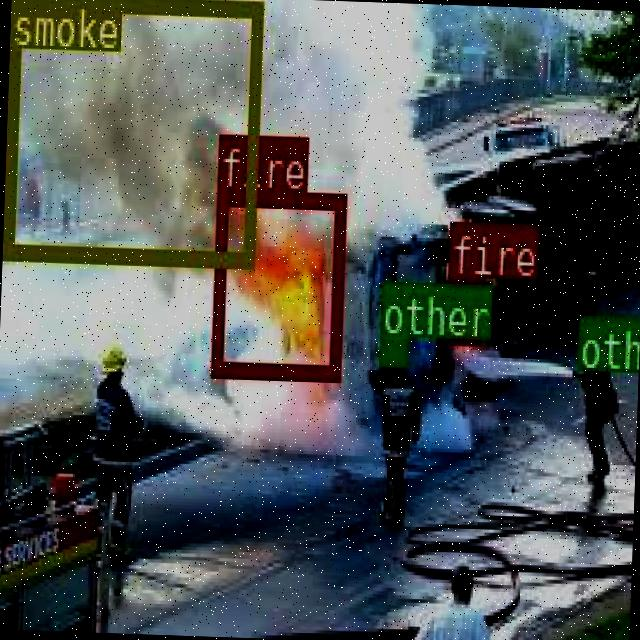fire: (210, 188, 344, 376), (446, 273, 480, 342)
smoke: (2, 0, 259, 265)
